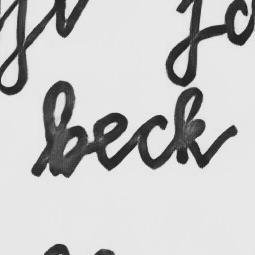b: (40, 78, 90, 180)
c: (134, 113, 170, 171)
e: (91, 110, 132, 173)
k: (171, 85, 213, 170)
